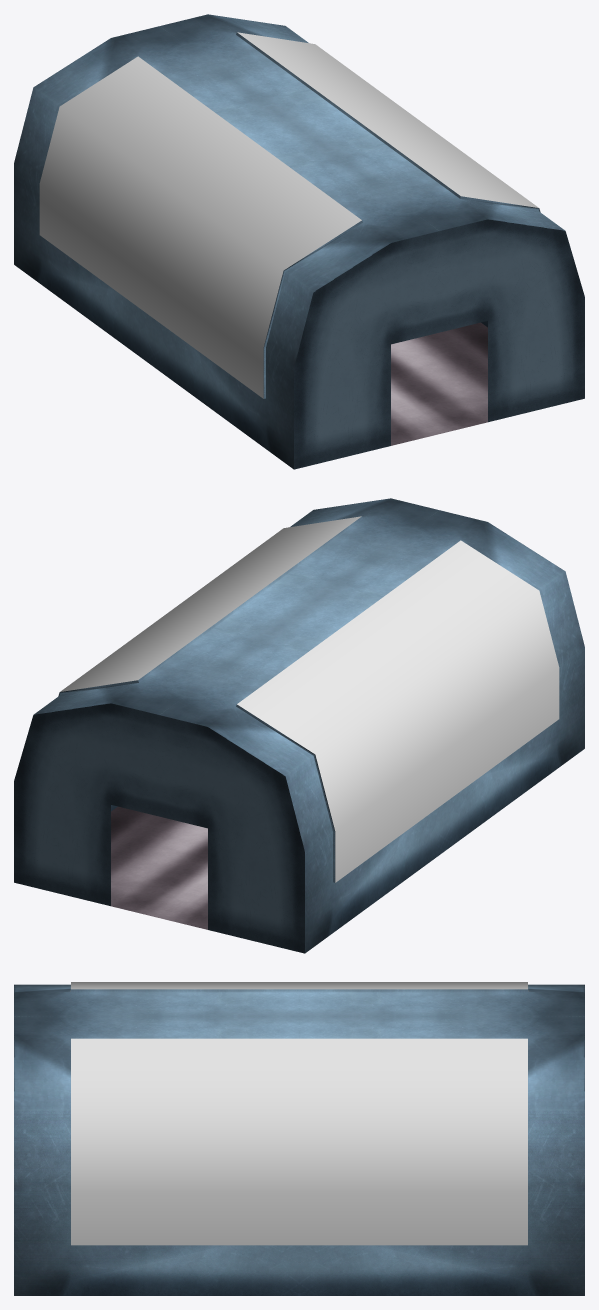
File: hall2.glb
3 renders of one model, top to bottom at view 1: azimuth 30°, elevation 25°; view 2: azimuth 150°, elevation 25°; view 3: azimuth 270°, elevation 25°, orthographic.
Parts seen in each view (by area): view 1: hall2, hall2_water; view 2: hall2, hall2_water; view 3: hall2_water, hall2.
Boxes of the visible parts, <box> form: hall2: <box>14,14,584,469</box>; hall2_water: <box>39,32,538,398</box>; hall2: <box>14,498,584,953</box>; hall2_water: <box>60,516,559,882</box>; hall2_water: <box>71,982,527,1245</box>; hall2: <box>14,984,584,1295</box>.
Size of the model in its own units: 30.5 by 20.24 by 50.
2 materials, 1 textured.
